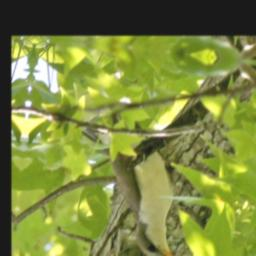Cuckoo: (68, 108, 198, 256)
